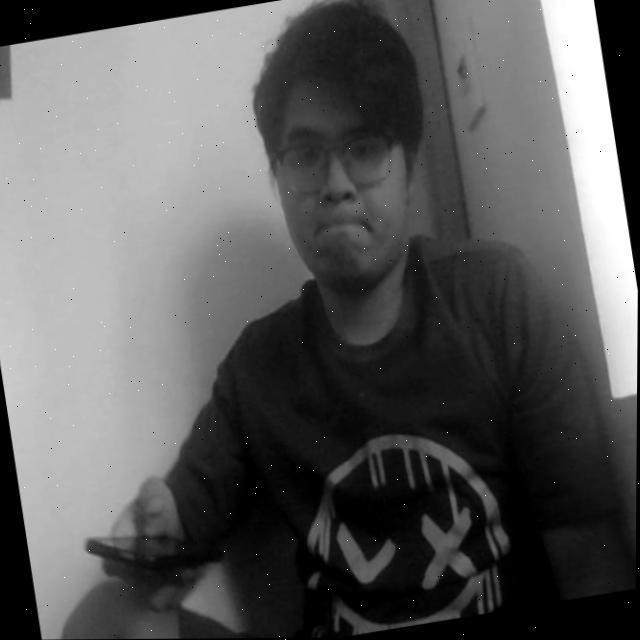phone: (65, 500, 203, 613)
